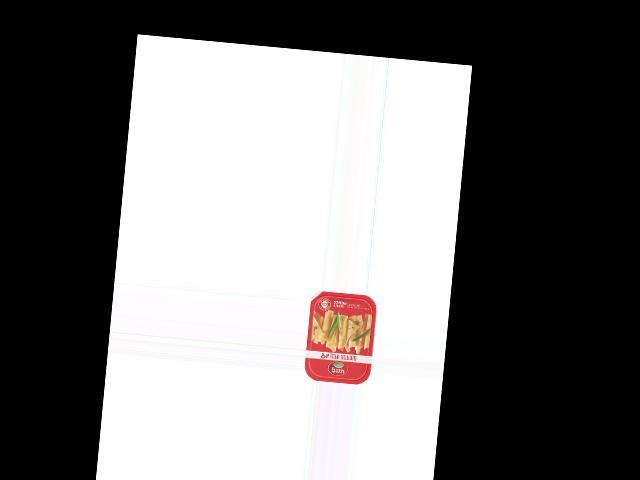cheese: (303, 289, 378, 386)
